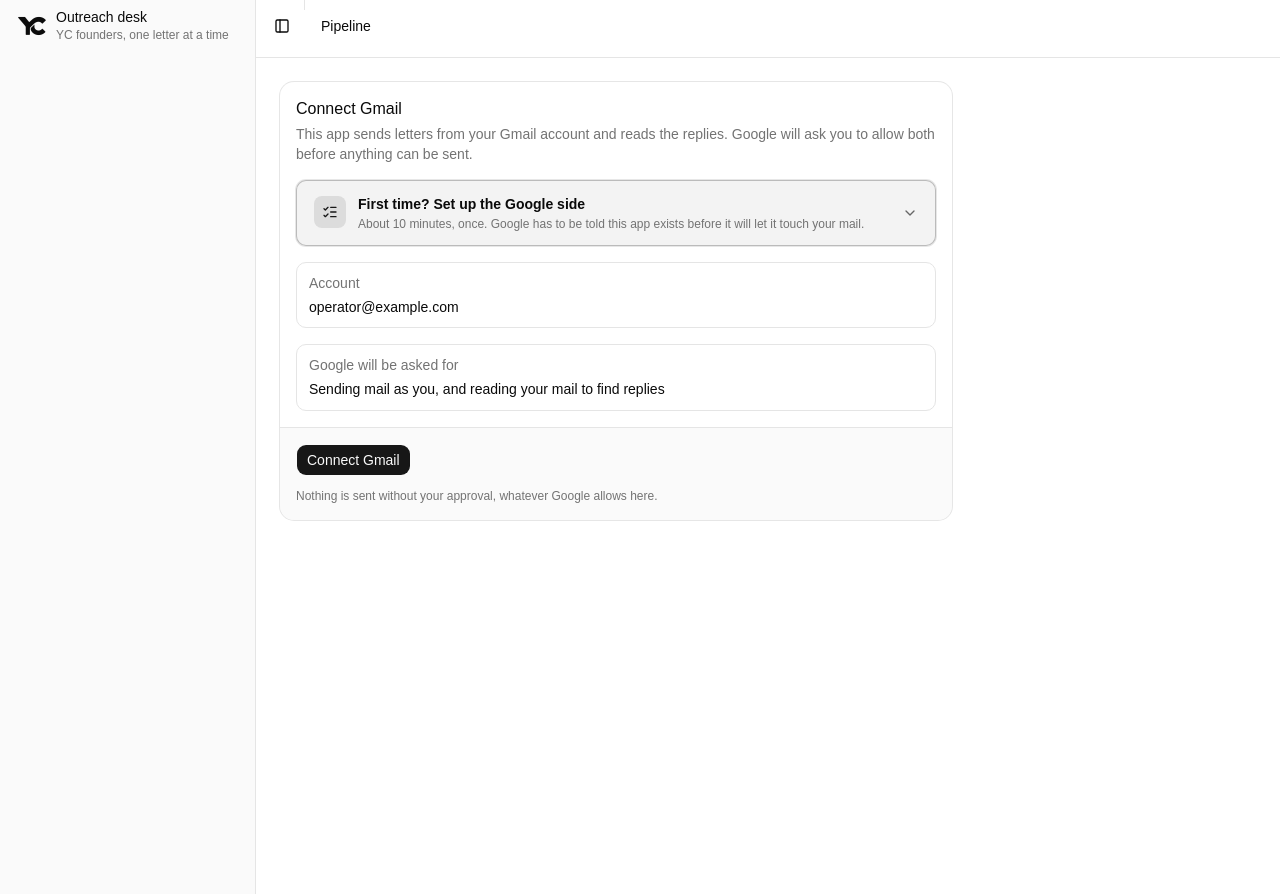
Test: says both permissions have to be ticked
Click the button "First time? Set up the Google side".
click(330, 212)  # box [297,181,935,245]
(page scrolled)
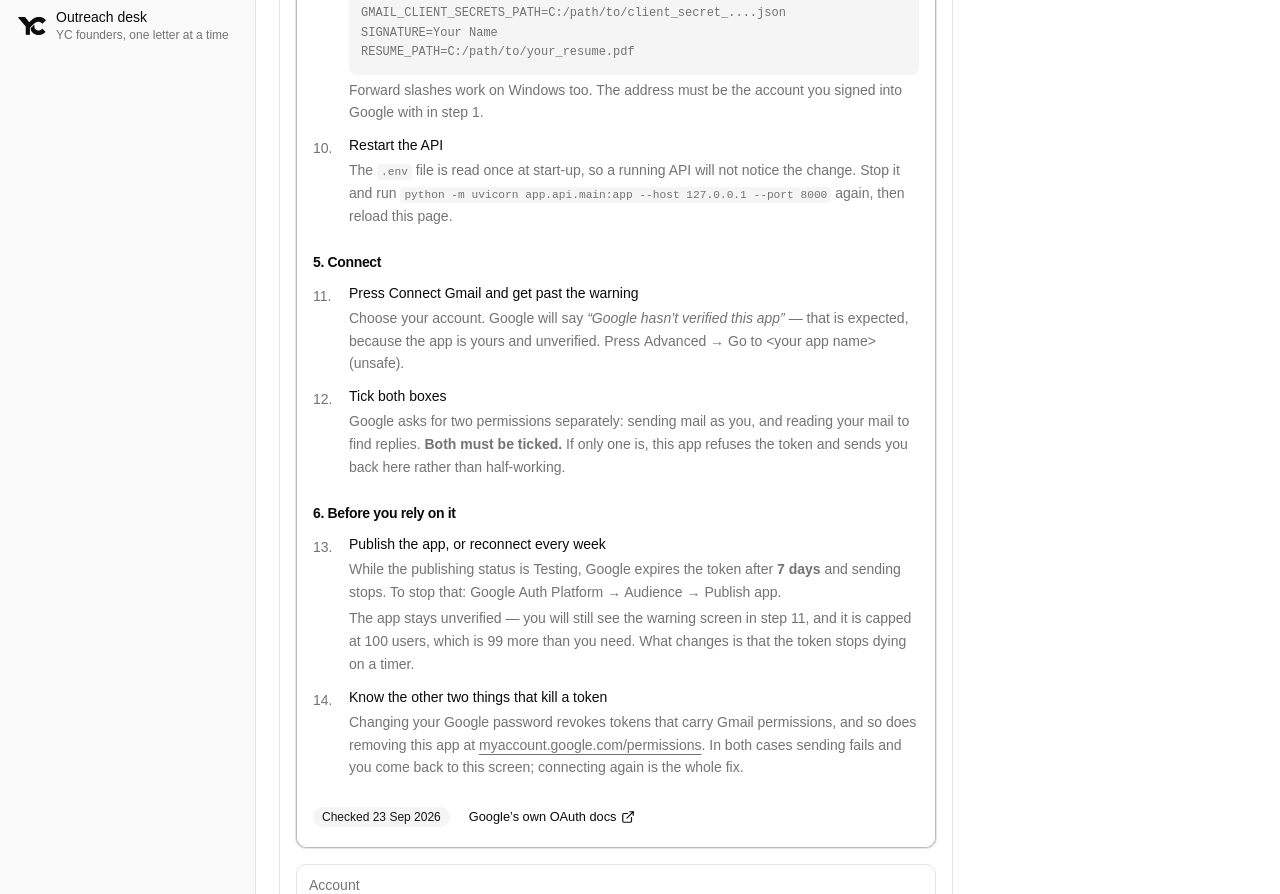
Expected: the text "Both must be ticked." is shown, [424,436,562,452]
